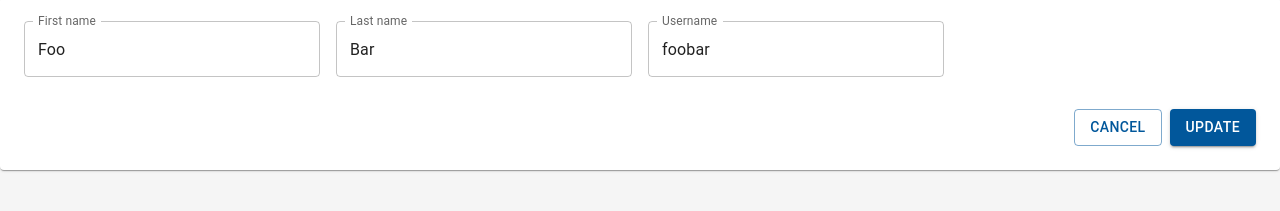
AccountProfile :: rejects form with empty fields
Clear the field labelled "First name" at (172, 49), box [24,21,320,77]
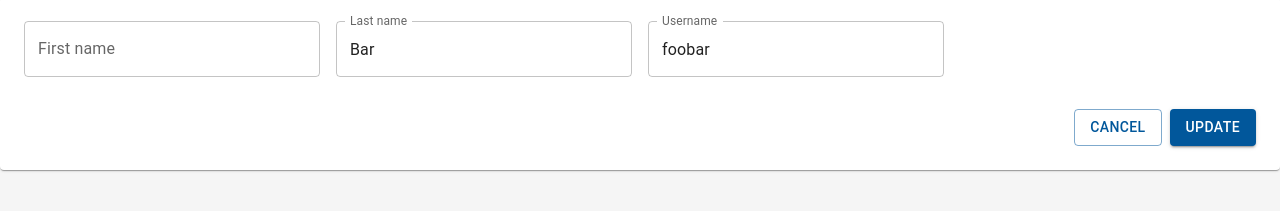
Clear the field labelled "Last name" at (484, 49), box [336,21,632,77]
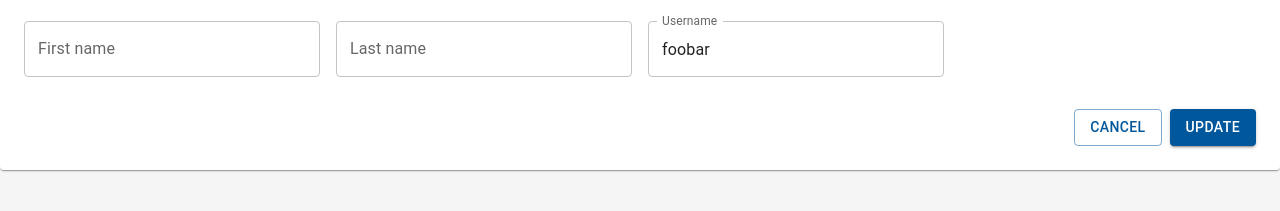
Clear the field labelled "Username" at (796, 49), box [648,21,944,77]
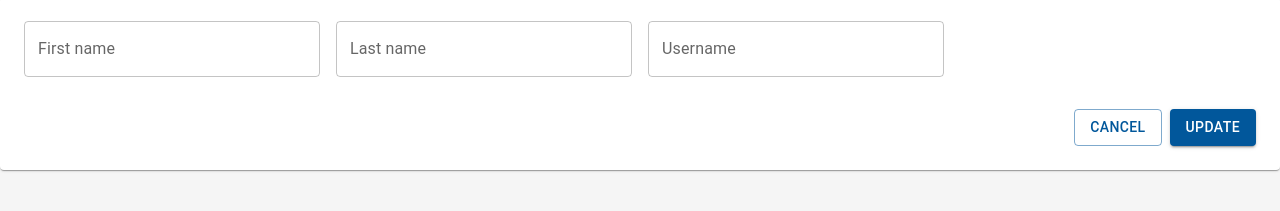
Click the button "Update".
click(1213, 127)  # box [1170,109,1256,146]
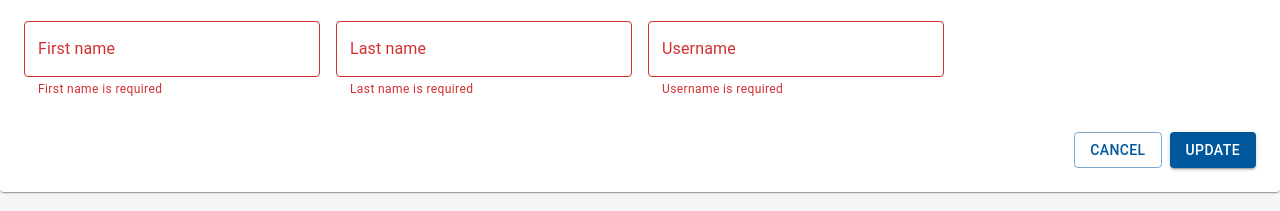
expect the text "First name is required" is shown: met, box [38,82,162,96]
expect the text "Last name is required" is shown: met, box [350,82,473,96]
expect the text "Username is required" is shown: met, box [662,82,783,96]
